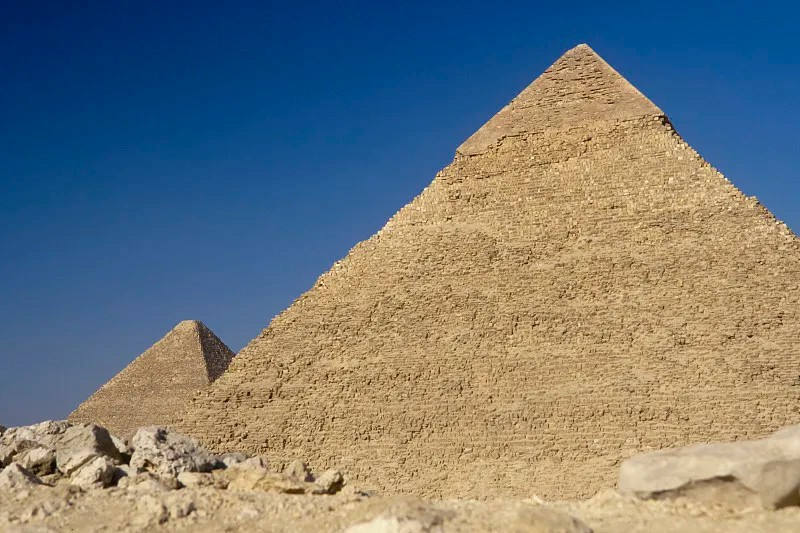Pyramid: (167, 43, 800, 476), (65, 321, 236, 433)
